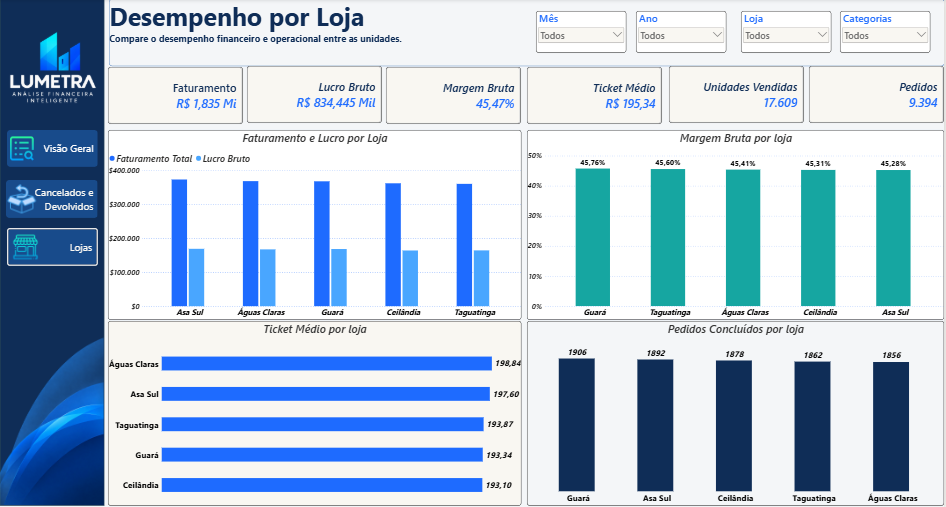

The dashboard page shown, as its layout file describes it:
{"tool":"powerbi","page":{"name":"Lojas","canvas":[2741,1475],"ordinal":2},"visuals":[{"type":"shape","box":[0,0,302.8,1470.9],"z":0},{"type":"cardVisual","fields":{"Data":["base_financeira_powerbi.Faturamento Total"]},"box":[312.4,197.5,390.9,165.1],"z":1000},{"type":"textbox","box":[315.4,0,2425.6,194.5],"z":2000},{"type":"slicer","title":"M","fields":{"Values":["base_financeira_powerbi.Mes"]},"box":[1556.2,35.4,262.3,120.8],"z":3000},{"type":"lineClusteredColumnComboChart","title":"Faturamento e Lucro por Loja","fields":{"Category":["base_financeira_powerbi.loja"],"Y":["base_financeira_powerbi.Faturamento Total","base_financeira_powerbi.Lucro Bruto"]},"box":[312.4,380.2,1199.6,551.1],"z":4000},{"type":"columnChart","fields":{"Category":["base_financeira_powerbi.loja"],"Y":["base_financeira_powerbi.Margem Bruta"]},"box":[1529.7,380.2,1211.3,551.1],"z":5000},{"type":"barChart","fields":{"Category":["base_financeira_powerbi.loja"],"Y":["base_financeira_powerbi.Ticket Médio"]},"box":[312.4,934.3,1199.6,536.4],"z":6000},{"type":"columnChart","fields":{"Category":["base_financeira_powerbi.loja"],"Y":["base_financeira_powerbi.Pedidos Concluídos"]},"box":[1529.7,934.3,1211.3,536.4],"z":7000},{"type":"actionButton","title":"Visão Geral","box":[20.3,379.3,263.5,107.1],"z":8000},{"type":"image","box":[29.5,394.9,69.5,78.2],"z":9000},{"type":"image","box":[0,24.5,302.8,339.4],"z":10000},{"type":"actionButton","title":"Visão Geral","box":[17.4,524.1,266.4,110],"z":11000},{"type":"actionButton","title":"Visão Geral","box":[20.3,666,263.5,110],"z":12000},{"type":"image","box":[29,666,89.8,110],"z":14000},{"type":"image","box":[17.7,524.6,91.4,109.1],"z":15000},{"type":"image","box":[0,932.4,301.1,538.6],"z":17000},{"type":"slicer","title":"M","fields":{"Values":["base_financeira_powerbi.Ano"]},"box":[1848,35.4,262.3,120.8],"z":18000},{"type":"slicer","title":"M","fields":{"Values":["base_financeira_powerbi.loja"]},"box":[2151.5,35.4,262.3,120.8],"z":19000},{"type":"slicer","title":"M","fields":{"Values":["base_financeira_powerbi.categoria"]},"box":[2440.4,35.4,262.3,120.8],"z":20000},{"type":"cardVisual","fields":{"Data":["base_financeira_powerbi.Lucro Bruto"]},"box":[716.2,194.5,390.9,165.1],"z":21000},{"type":"cardVisual","fields":{"Data":["base_financeira_powerbi.Margem Bruta"]},"box":[1120,197.5,390.9,165.1],"z":22000},{"type":"cardVisual","fields":{"Data":["base_financeira_powerbi.Ticket Médio"]},"box":[1529.7,197.5,390.9,165.1],"z":23000},{"type":"cardVisual","fields":{"Data":["base_financeira_powerbi.Unidades Vendidas Card"]},"box":[1942.3,194.5,390.9,165.1],"z":24000},{"type":"cardVisual","fields":{"Data":["base_financeira_powerbi.Pedidos Card"]},"box":[2349,194.5,390.9,165.1],"z":25000}]}

Visuals, with their boxes on the page's 2741x1475 design canvas (x1, y1, x2, y2). These are canvas units, not pixel positions in the 946x507 screenshot, which may show the page scaled, cropped or inside an application window:
shape: box(0, 0, 303, 1471)
cardVisual - base_financeira_powerbi.Faturamento Total: box(312, 198, 703, 363)
textbox: box(315, 0, 2741, 194)
"M" slicer: box(1556, 35, 1818, 156)
"Faturamento e Lucro por Loja" lineClusteredColumnComboChart: box(312, 380, 1512, 931)
columnChart - base_financeira_powerbi.loja x base_financeira_powerbi.Margem Bruta: box(1530, 380, 2741, 931)
barChart - base_financeira_powerbi.loja x base_financeira_powerbi.Ticket Médio: box(312, 934, 1512, 1471)
columnChart - base_financeira_powerbi.loja x base_financeira_powerbi.Pedidos Concluídos: box(1530, 934, 2741, 1471)
"Visão Geral" actionButton: box(20, 379, 284, 486)
image: box(30, 395, 99, 473)
image: box(0, 24, 303, 364)
"Visão Geral" actionButton: box(17, 524, 284, 634)
"Visão Geral" actionButton: box(20, 666, 284, 776)
image: box(29, 666, 119, 776)
image: box(18, 525, 109, 634)
image: box(0, 932, 301, 1471)
"M" slicer: box(1848, 35, 2110, 156)
"M" slicer: box(2152, 35, 2414, 156)
"M" slicer: box(2440, 35, 2703, 156)
cardVisual - base_financeira_powerbi.Lucro Bruto: box(716, 194, 1107, 360)
cardVisual - base_financeira_powerbi.Margem Bruta: box(1120, 198, 1511, 363)
cardVisual - base_financeira_powerbi.Ticket Médio: box(1530, 198, 1921, 363)
cardVisual - base_financeira_powerbi.Unidades Vendidas Card: box(1942, 194, 2333, 360)
cardVisual - base_financeira_powerbi.Pedidos Card: box(2349, 194, 2740, 360)
